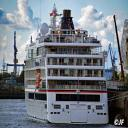cruises: (23, 2, 110, 127)
